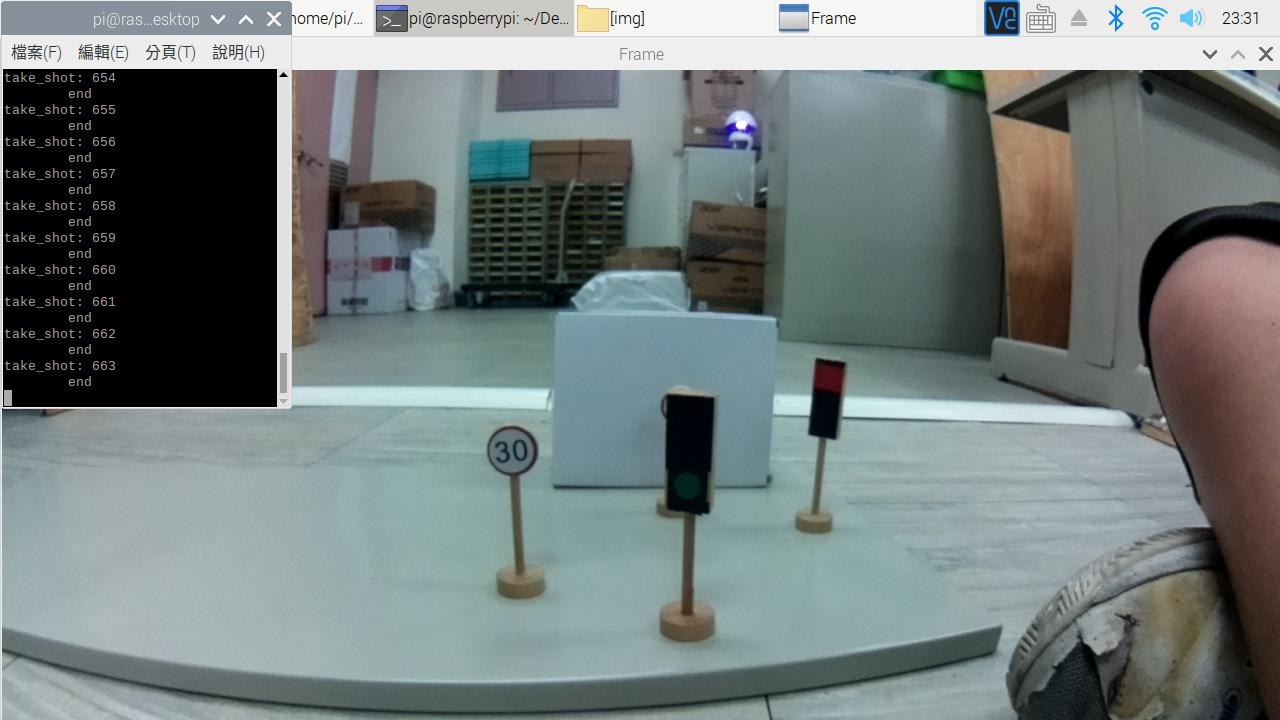Green: (661, 388, 716, 520)
Red: (795, 346, 861, 462)
Speed30: (479, 418, 542, 488)
